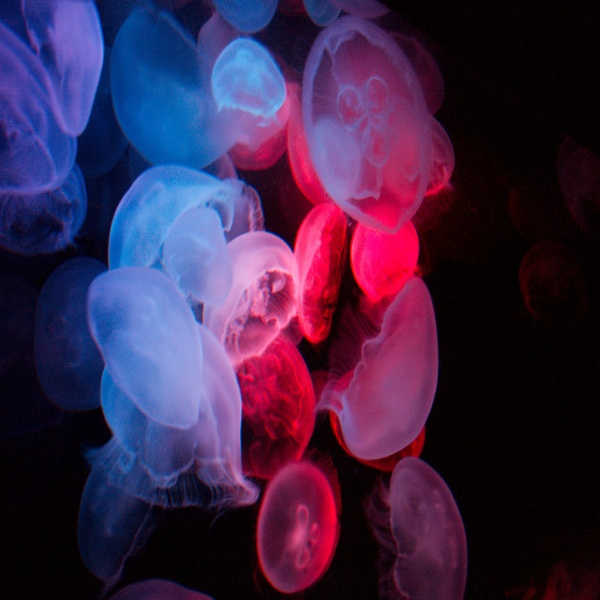Jellyfish: (0, 0, 469, 599), (299, 12, 431, 233)
